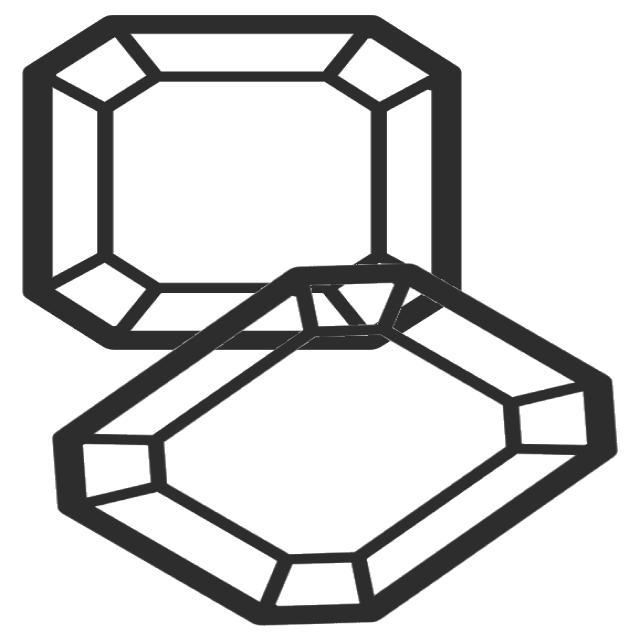emerald: (41, 265, 632, 636), (10, 8, 473, 358)
